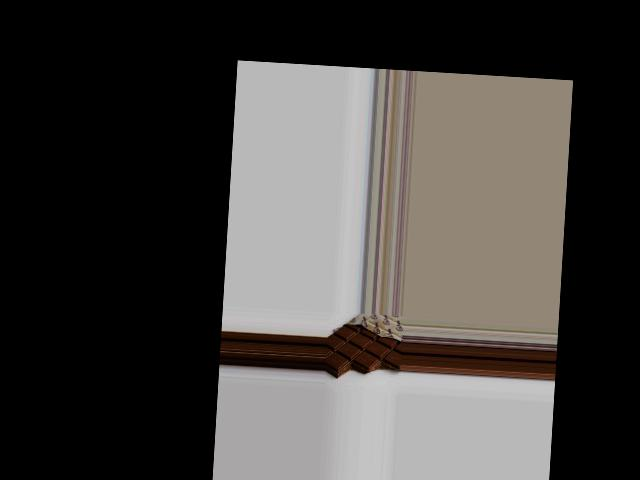chocolate: (326, 312, 404, 376)
